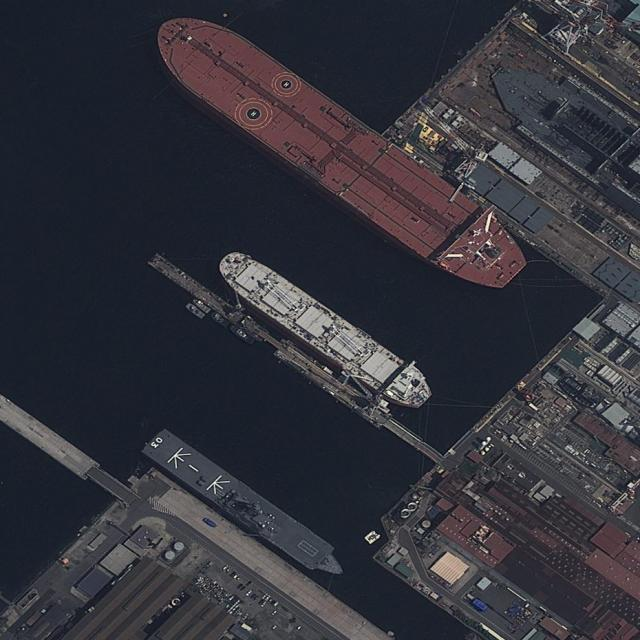Cargo: (210, 239, 440, 420)
Dock: (146, 250, 443, 467)
Landing: (139, 422, 351, 586)
Oil Tanker: (142, 1, 536, 299)
